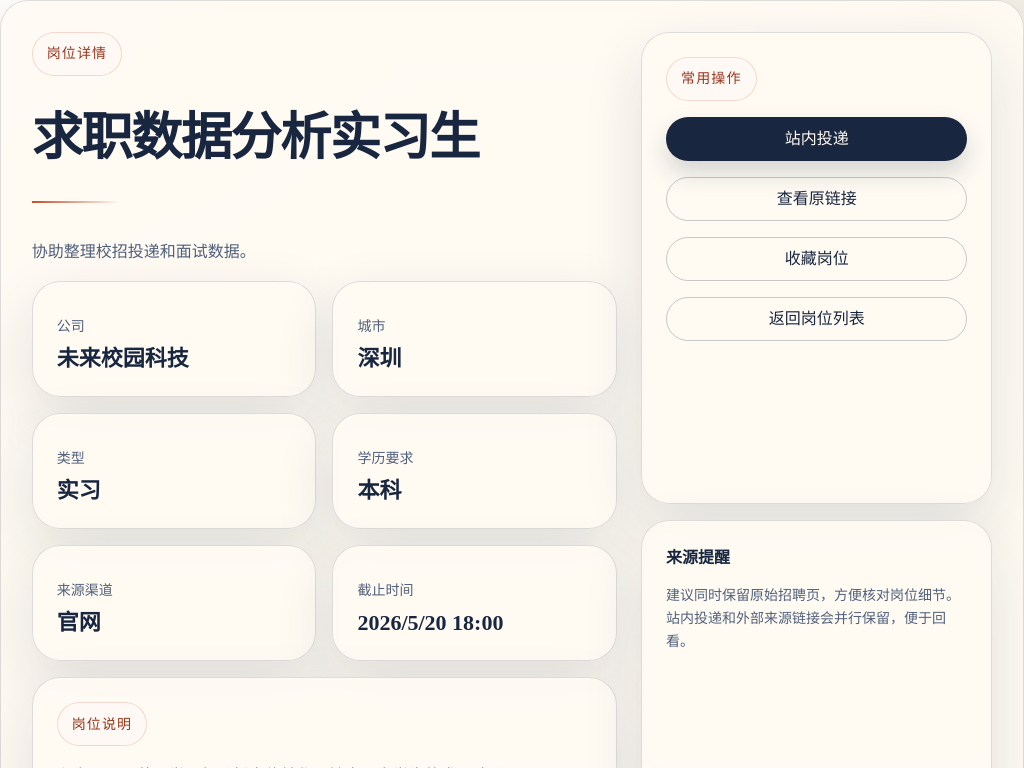
Test: favorites a job for authenticated users
This screenshot has width=1024, height=768.
Step 1. Click the button with test id "favorite-toggle" → {"x": 817, "y": 259}, box [666,237,967,281]
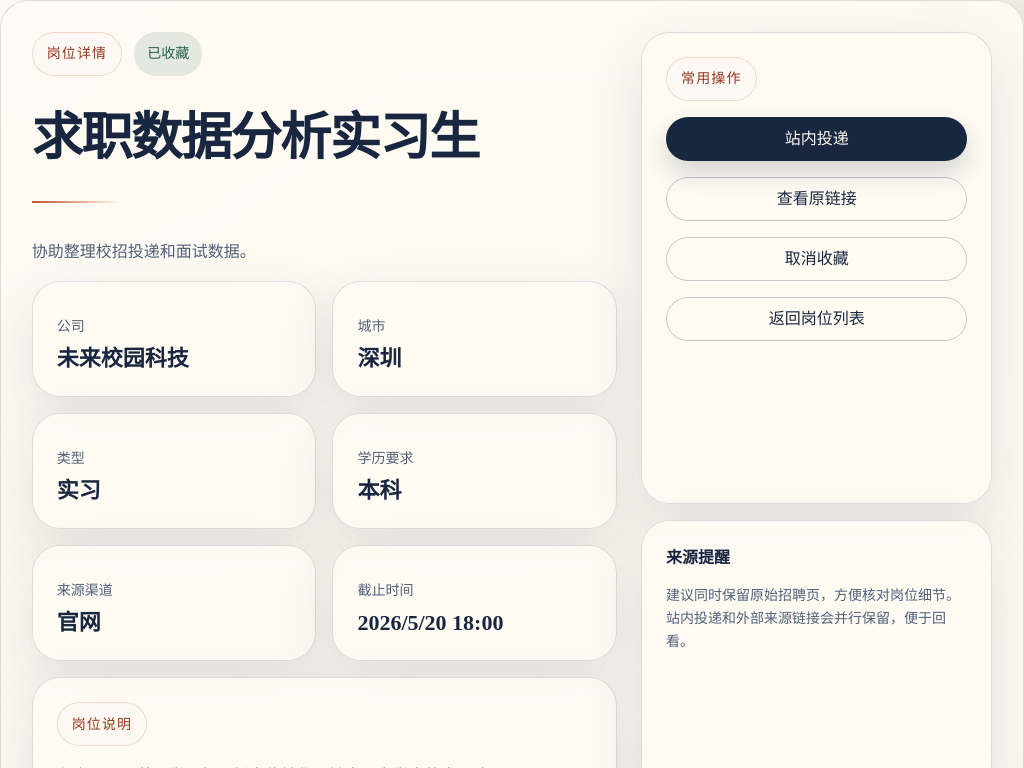
Expected: the text "取消收藏" is shown, [666,237,967,281]
